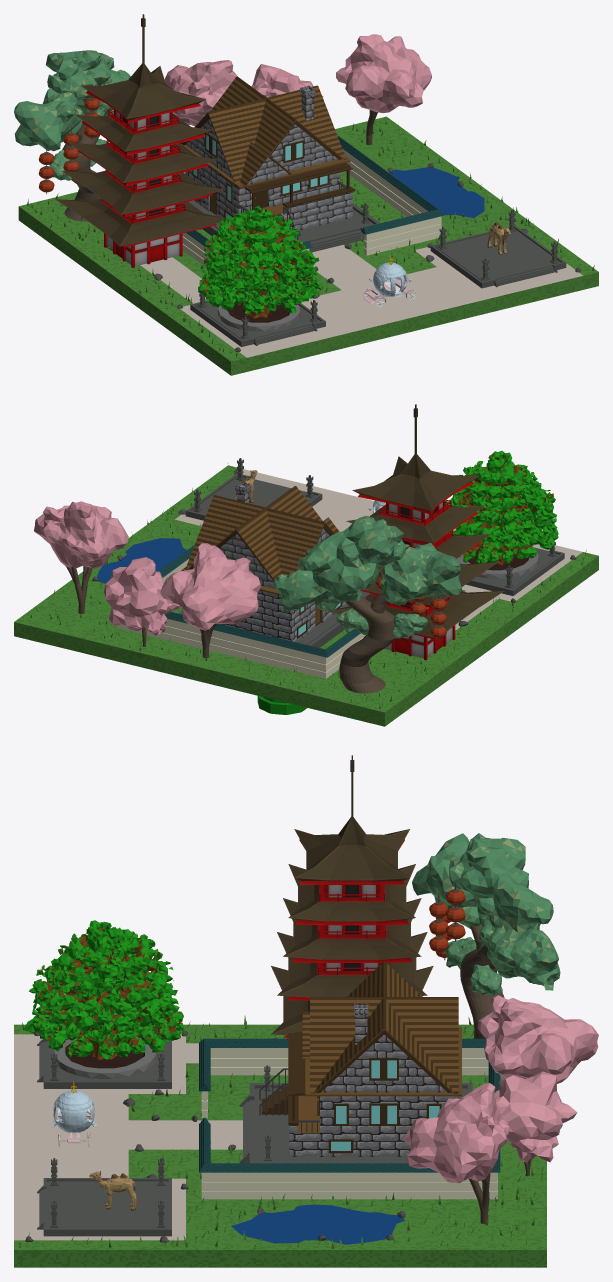
3 renders of one model, top to bottom at view 1: azimuth 30°, elevation 25°; view 2: azimuth 150°, elevation 25°; view 3: azimuth 270°, elevation 25°, orthographic. The views are drawn at different scales.
Visible parts, largest first — view 1: Cube.005, Cube.586, OBJRANDOM_CEIBA, VEHICLES_FANTASY_CARRIAGE; view 2: Cube.005, Cube.586, OBJRANDOM_CEIBA, UNDERGROUND_PIPES; view 3: Cube.005, Cube.586, OBJRANDOM_CEIBA, VEHICLES_FANTASY_CARRIAGE, ANIMAL_CAMELLO.
Part boxes in pixels (<box>): Cube.005: <box>14,14,598,375</box>; Cube.586: <box>179,76,355,239</box>; OBJRANDOM_CEIBA: <box>198,205,322,331</box>; VEHICLES_FANTASY_CARRIAGE: <box>363,254,416,307</box>; Cube.005: <box>14,404,598,726</box>; Cube.586: <box>181,481,347,641</box>; OBJRANDOM_CEIBA: <box>445,451,558,578</box>; UNDERGROUND_PIPES: <box>257,696,306,714</box>; Cube.005: <box>14,755,598,1267</box>; Cube.586: <box>259,961,461,1156</box>; OBJRANDOM_CEIBA: <box>23,920,184,1078</box>; VEHICLES_FANTASY_CARRIAGE: <box>51,1081,96,1147</box>; ANIMAL_CAMELLO: <box>89,1170,136,1210</box>.
Size of the model in its own units: 4528 by 3273 by 4389.
Materials: 34 (6 with a texture image).
